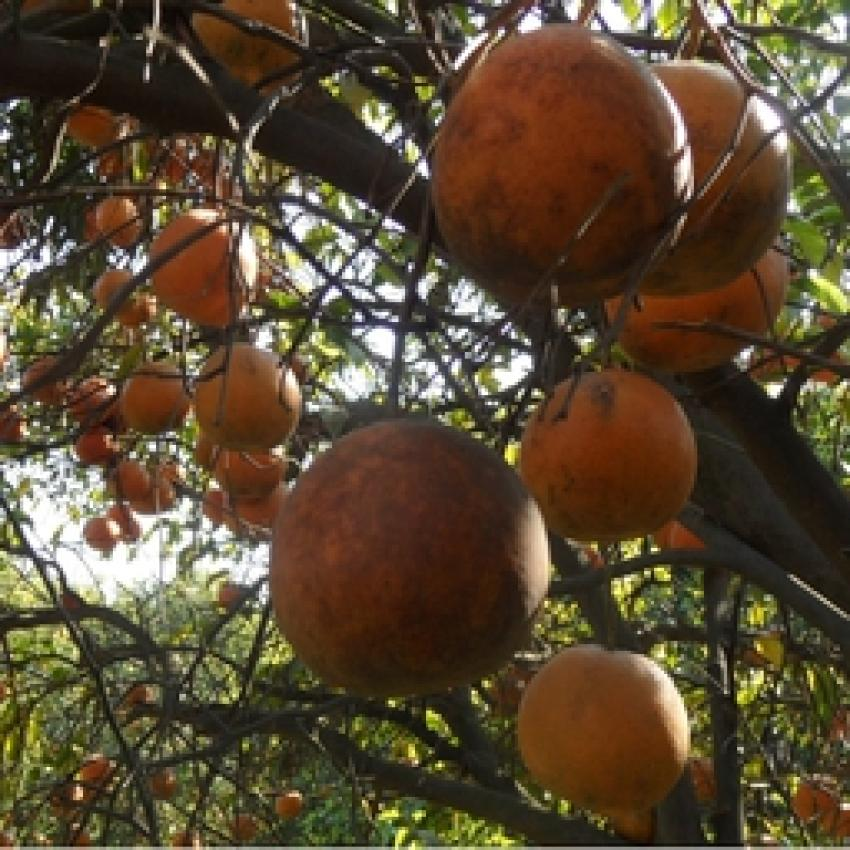Mal estado: (263, 416, 557, 708), (421, 13, 686, 314), (607, 55, 785, 298), (520, 364, 705, 550), (509, 639, 692, 815)
